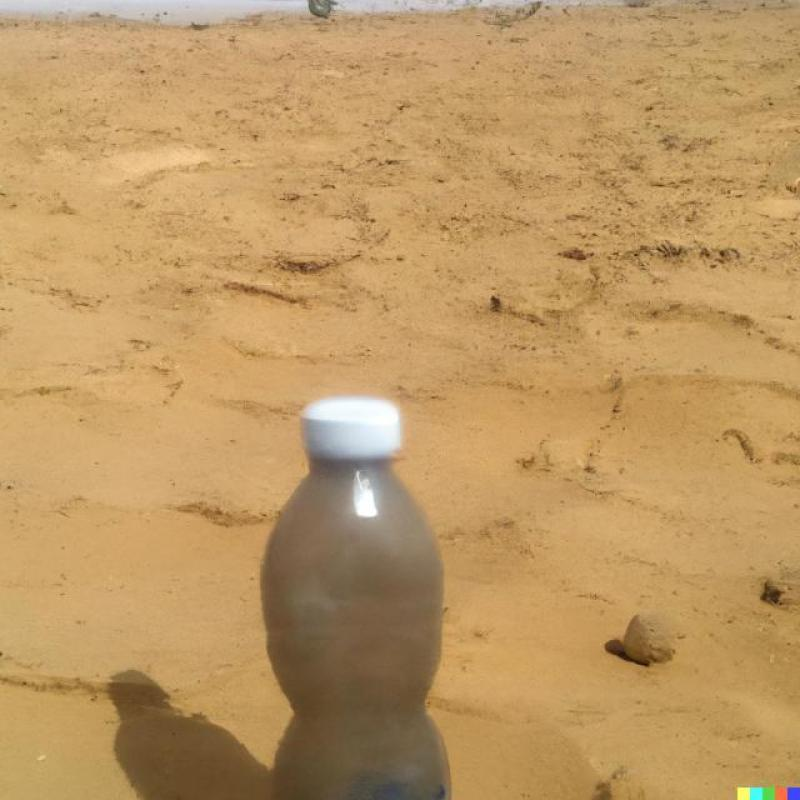botella: (259, 394, 452, 800)
